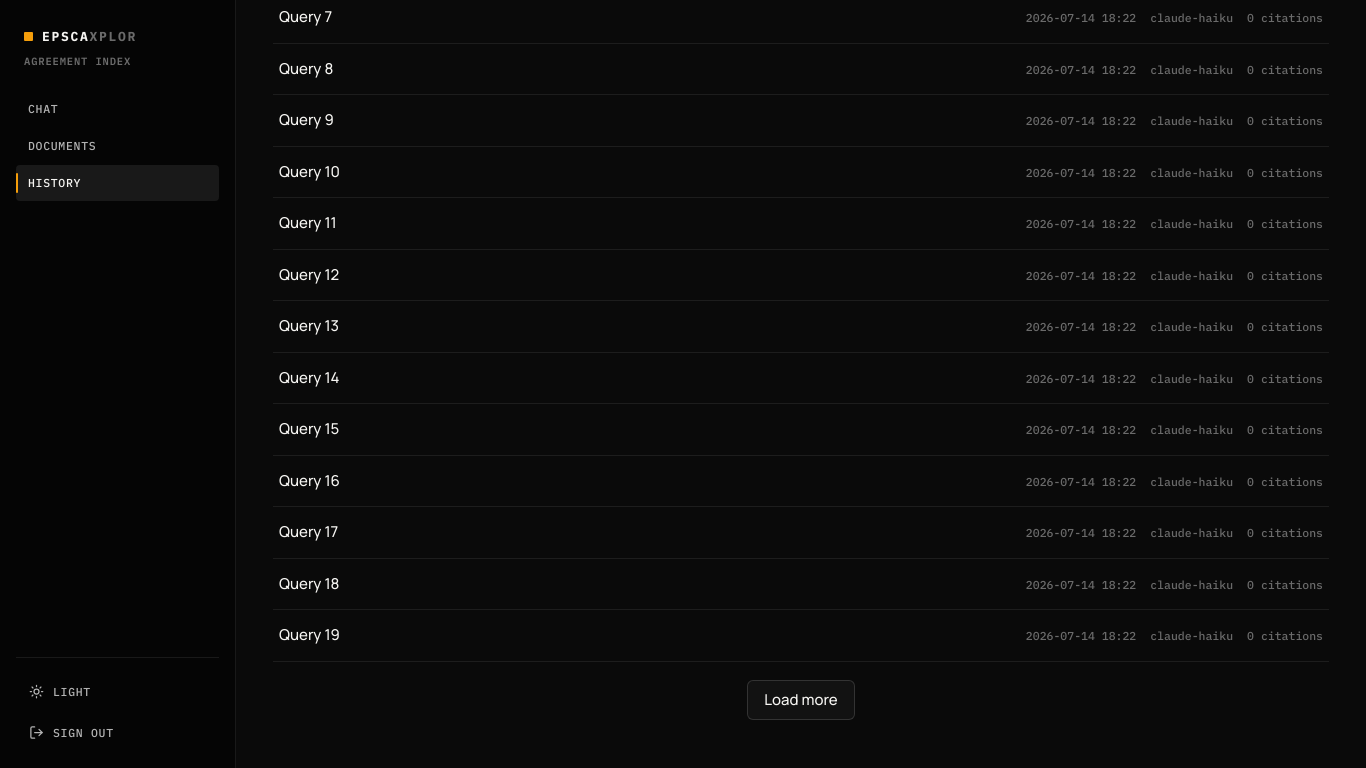
Test: HistoryPage › loads the next page and appends it
The width and height of the screenshot is (1366, 768).
(page scrolled)
Click the button "Load more" at (801, 700), box 747,680 -> 855,720
(page scrolled)
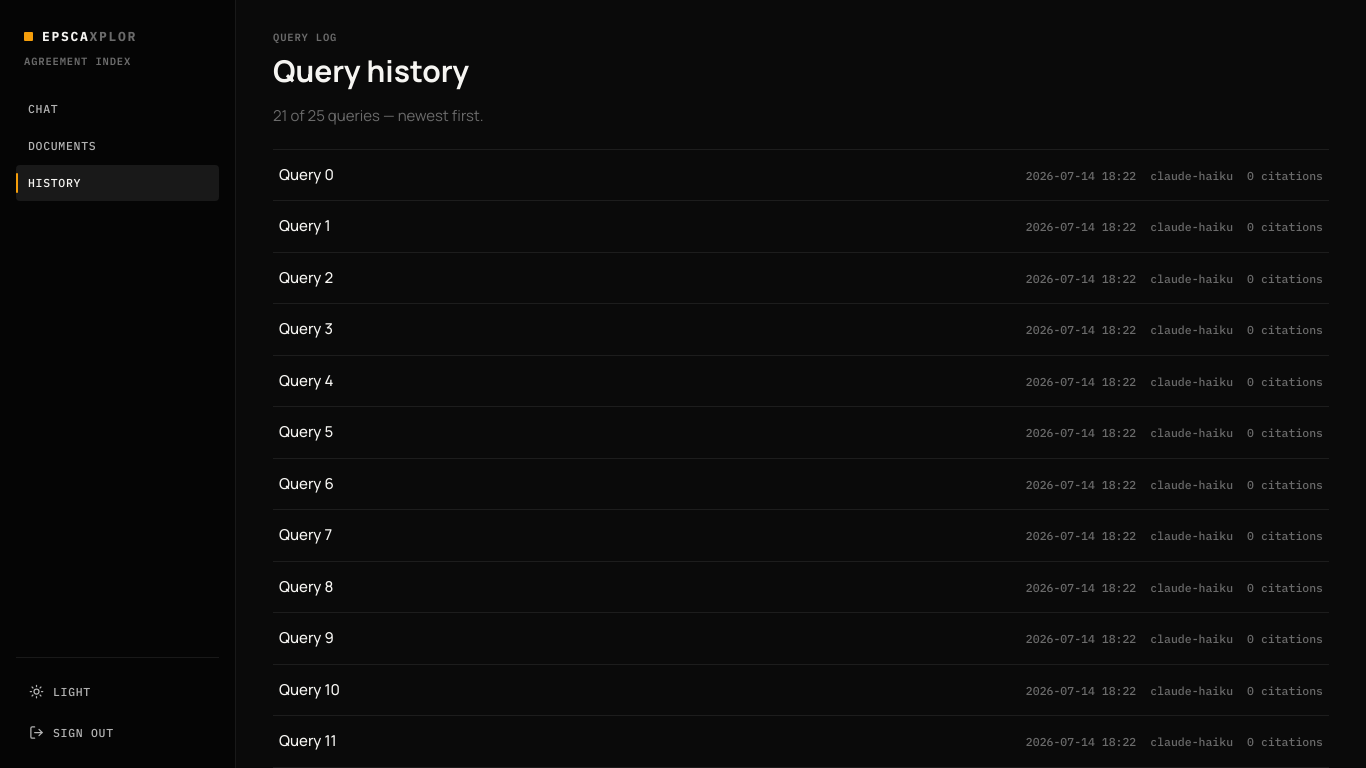
Expected: the text "Query 0" is shown, 279,164 -> 334,186
